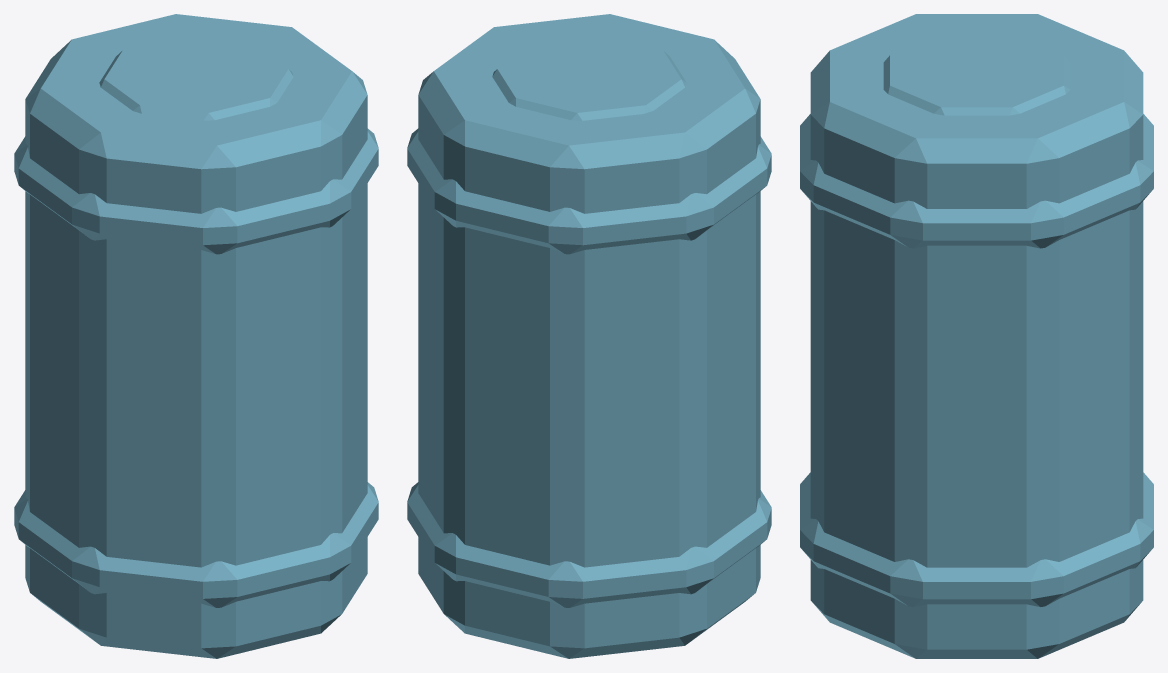
File: SM_Barrel_0p6x0p9x0p6.glb
3 views of the same model, side by side, from view 1: azimuth 30°, elevation 25°; view 2: azimuth 150°, elevation 25°; view 3: azimuth 270°, elevation 25° (orthographic).
Visible parts, largest first — view 1: SM_Barrel_0p6x0p9x0p6; view 2: SM_Barrel_0p6x0p9x0p6; view 3: SM_Barrel_0p6x0p9x0p6.
Part boxes in pixels (x1=…): SM_Barrel_0p6x0p9x0p6: x1=14, y1=14, x2=378, y2=658; SM_Barrel_0p6x0p9x0p6: x1=407, y1=14, x2=771, y2=658; SM_Barrel_0p6x0p9x0p6: x1=800, y1=14, x2=1153, y2=658.
Bounding box in the file's own units: 0.5543 × 0.91 × 0.5543.
